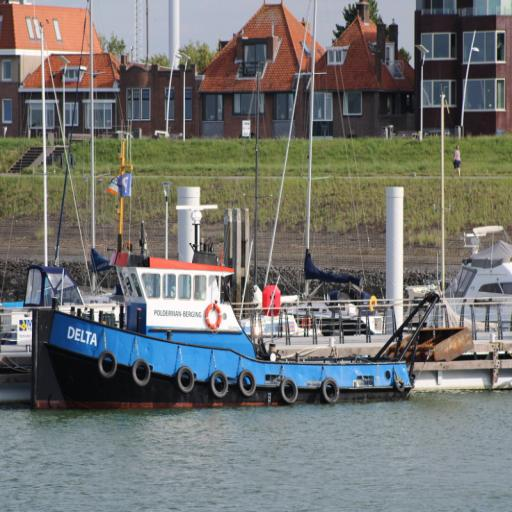tugboat: (29, 202, 418, 422)
